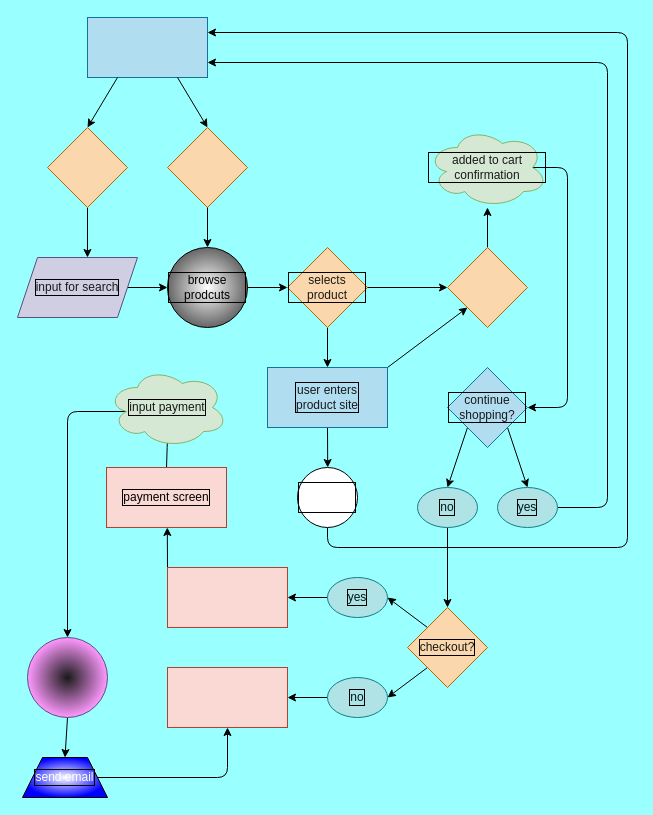
The diagram is 653 pixels wide and 815 high, and some of its shapes have lost their labels. Here are the shapes that lost their labels. From the top down, the box of each, then its label:
(86, 16, 208, 78): User Enters Site
(46, 126, 128, 208): search product
(166, 126, 248, 208): explore products
(446, 246, 528, 328): add to cart
(166, 566, 288, 628): view cart screen
(26, 636, 108, 718): order confirmed
(166, 666, 288, 728): leave the site
